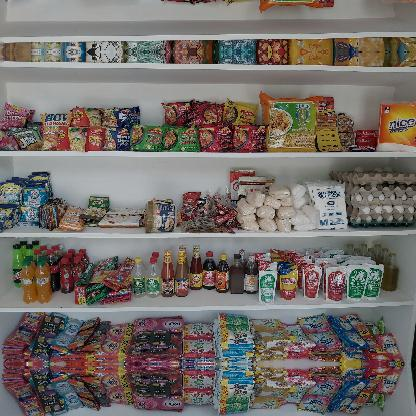Lady-s-Choice: (145, 200, 177, 232)
